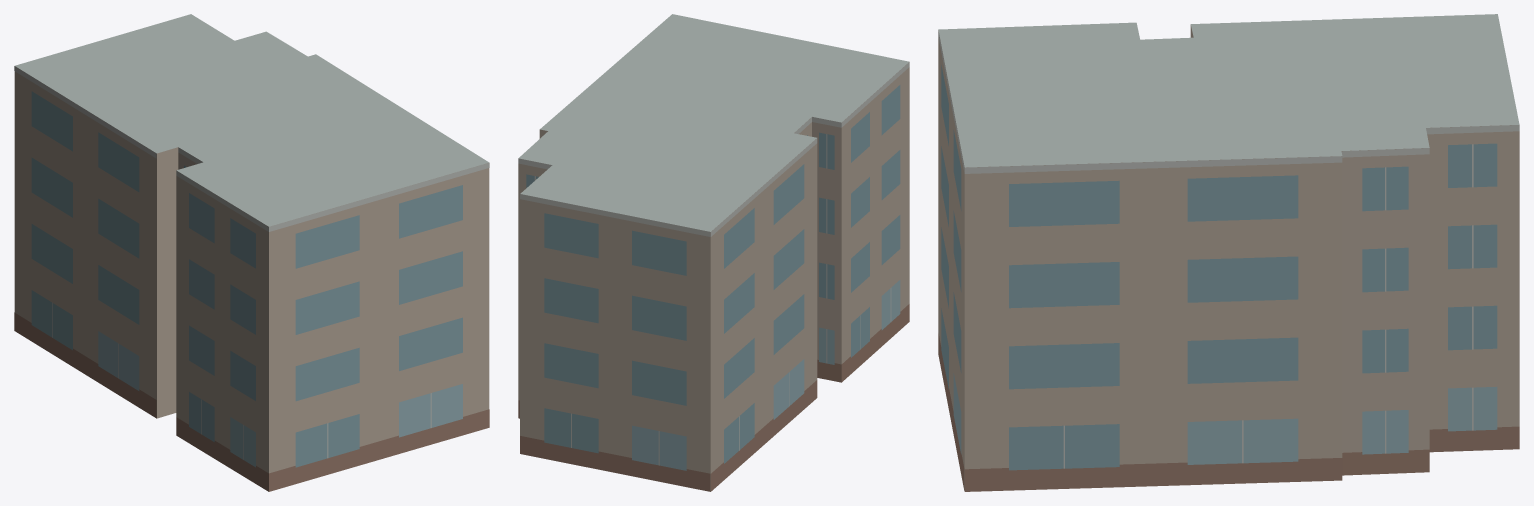
Rendered from survey-upis-32631492.glb.
3 renders of one model, left to right at view 1: azimuth 30°, elevation 25°; view 2: azimuth 150°, elevation 25°; view 3: azimuth 270°, elevation 25°, orthographic. The views are drawn at different scales.
Parts seen in each view (by area): view 1: survey-upis-32631492.tmp; view 2: survey-upis-32631492.tmp; view 3: survey-upis-32631492.tmp.
Boxes of the visible parts, x1,y1,x2,y2 form: survey-upis-32631492.tmp: [14, 14, 489, 491]; survey-upis-32631492.tmp: [518, 14, 909, 491]; survey-upis-32631492.tmp: [938, 14, 1519, 491].
Bounding box in the file's own units: 12.39 × 12.2 × 19.82.
